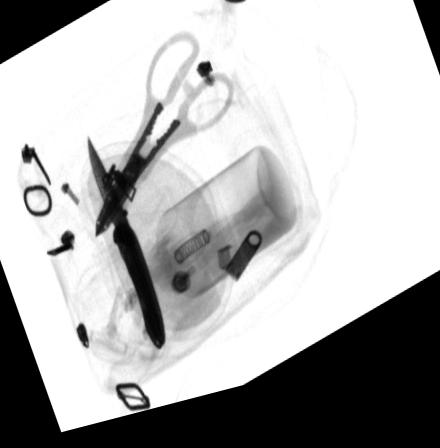Knife: (87, 140, 165, 359)
Scissors: (92, 42, 233, 241)
